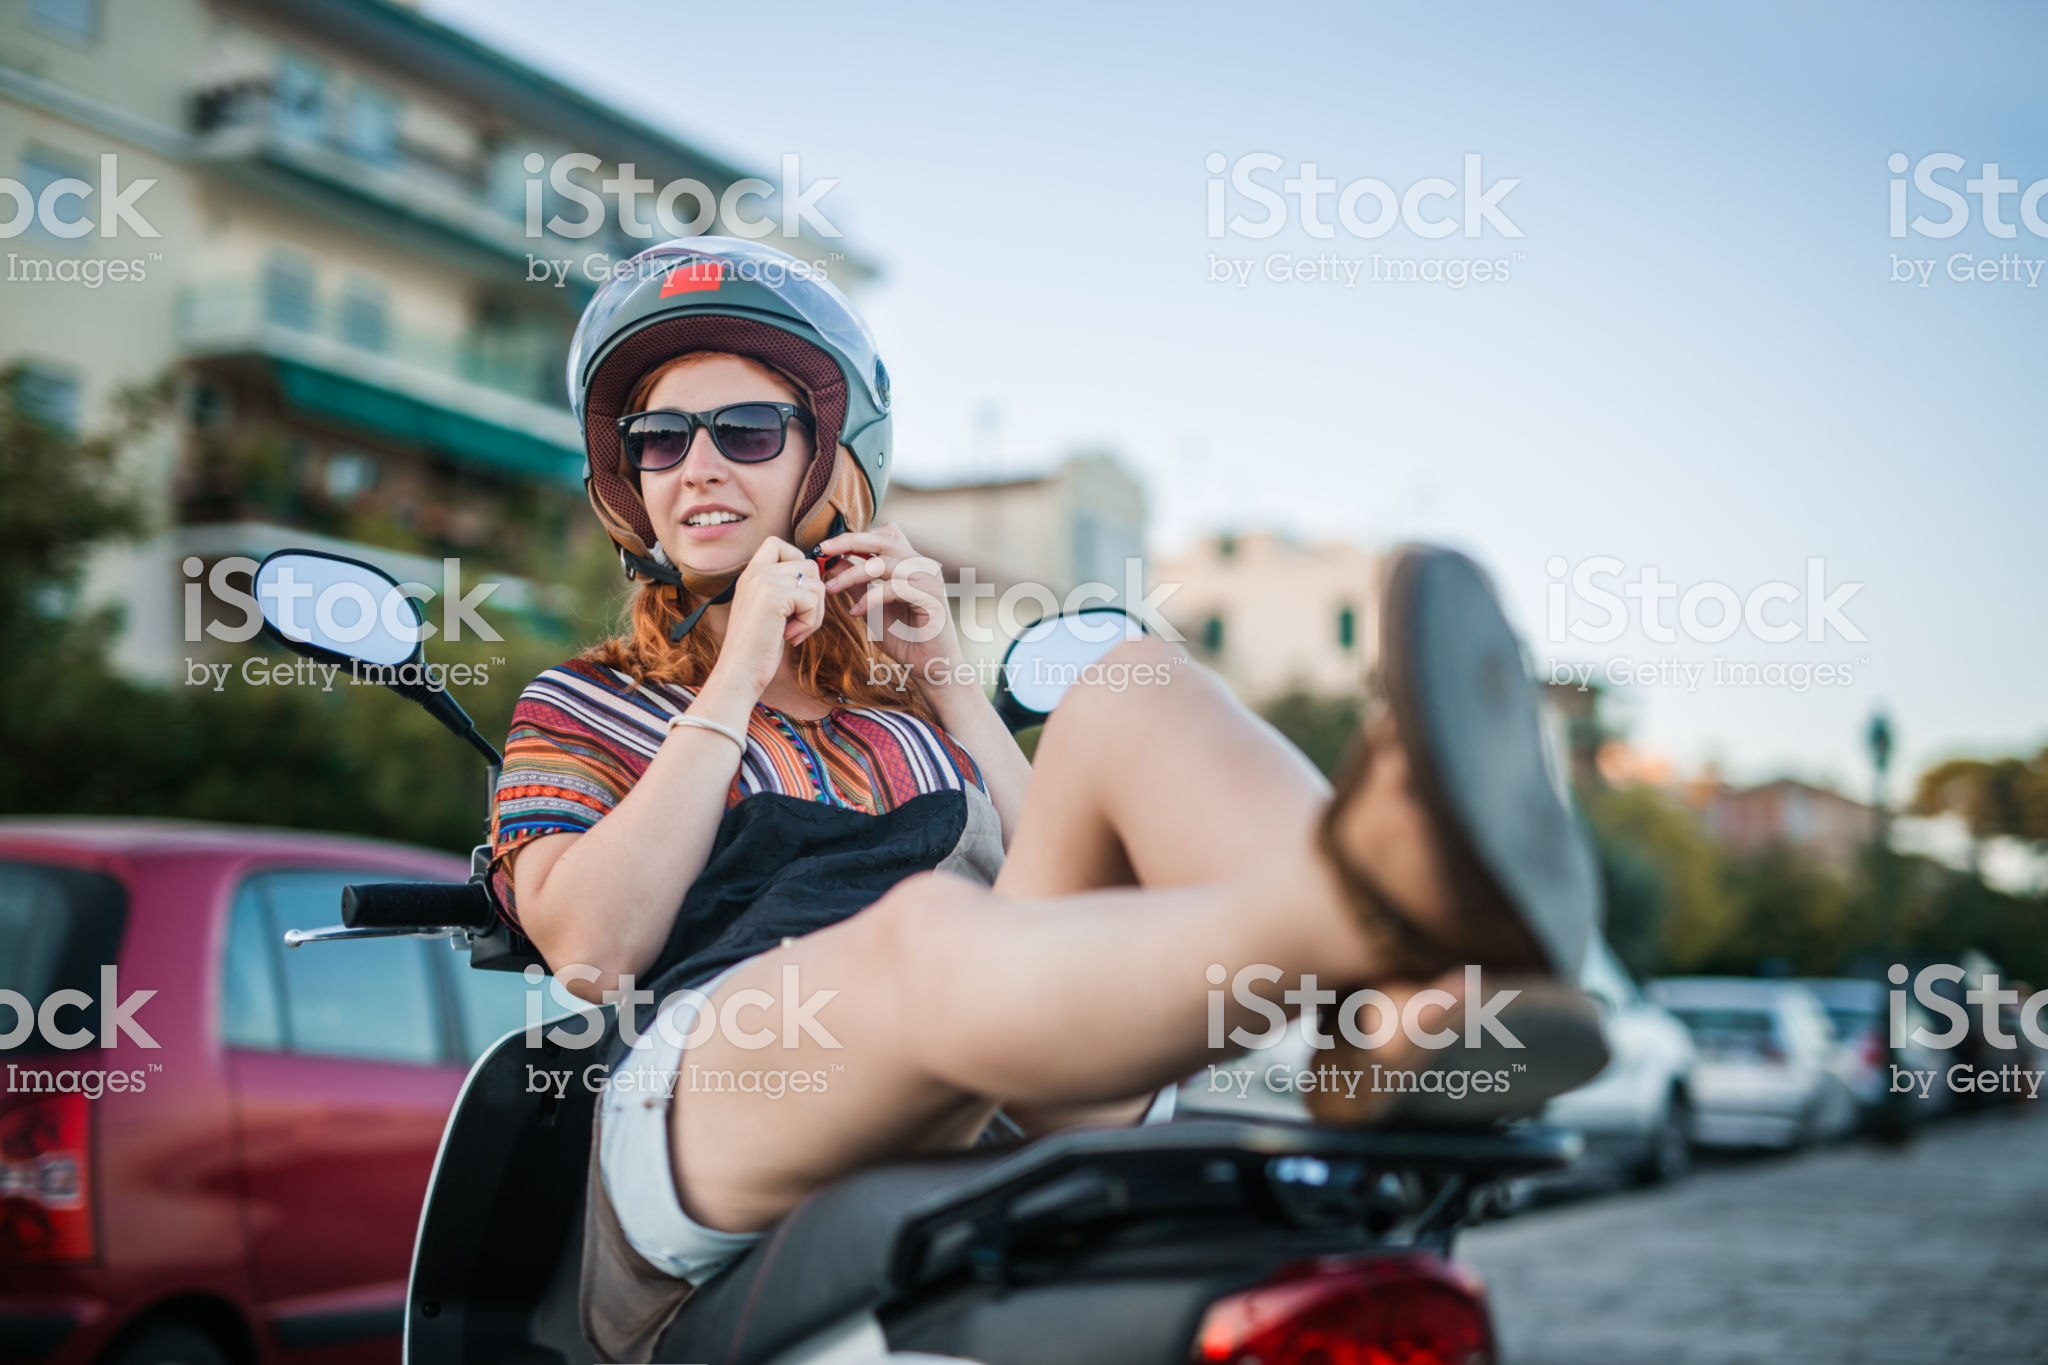helmet: (542, 257, 894, 577)
